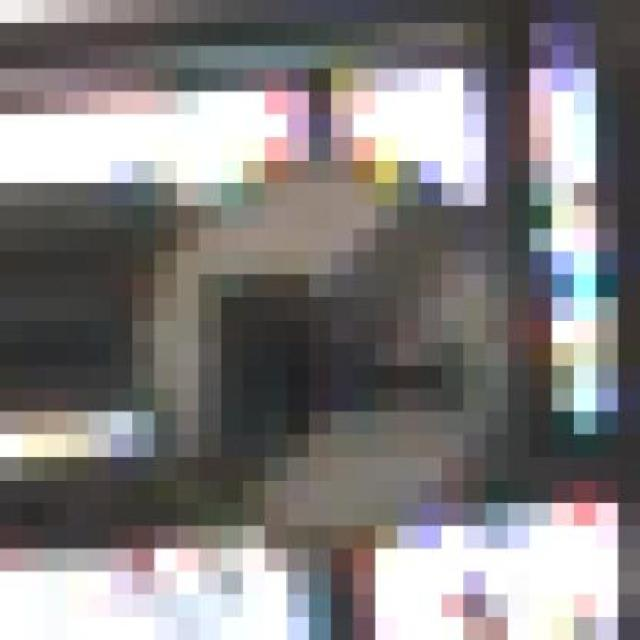Overtaking by trucks is prohibited: (111, 137, 574, 572)
